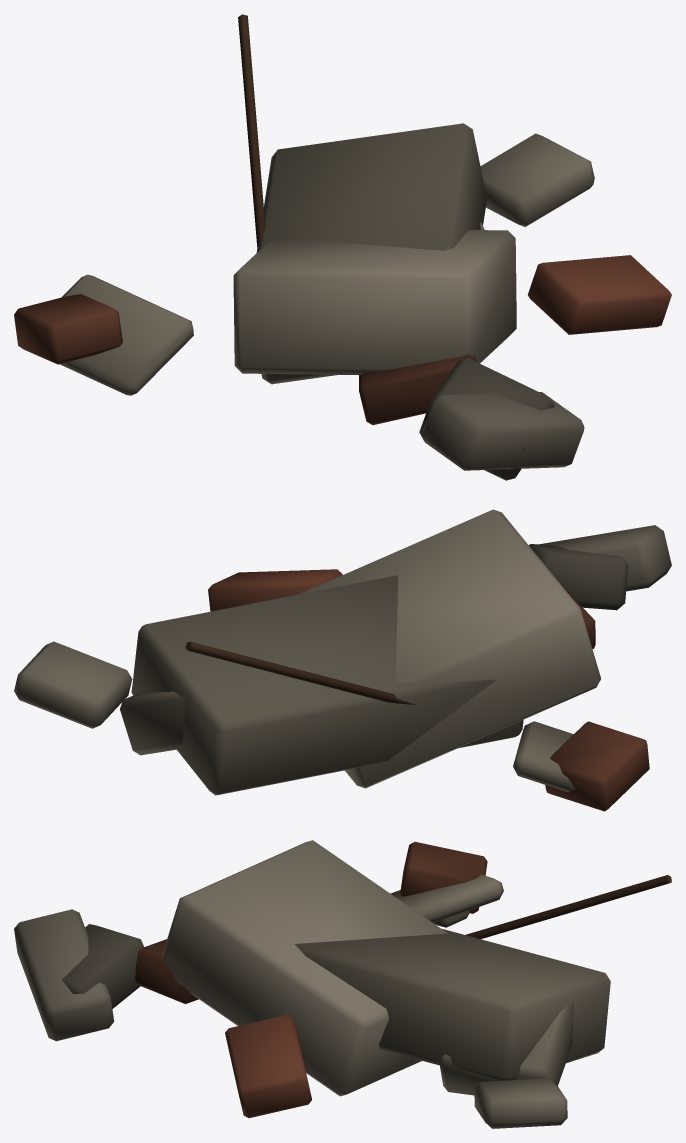
File: cascotes_a.glb
3 renders of one model, top to bottom at view 1: azimuth 30°, elevation 25°; view 2: azimuth 150°, elevation 25°; view 3: azimuth 270°, elevation 25°, orthographic. The views are drawn at different scales.
Visible parts, largest first — view 1: cascotes_a.001; view 2: cascotes_a.001; view 3: cascotes_a.001.
Part boxes in pixels (bbox=[...]): cascotes_a.001: bbox=[14, 14, 671, 480]; cascotes_a.001: bbox=[14, 509, 671, 811]; cascotes_a.001: bbox=[14, 840, 671, 1128].
Size of the model in its own units: 1.04 by 0.3687 by 1.12.
